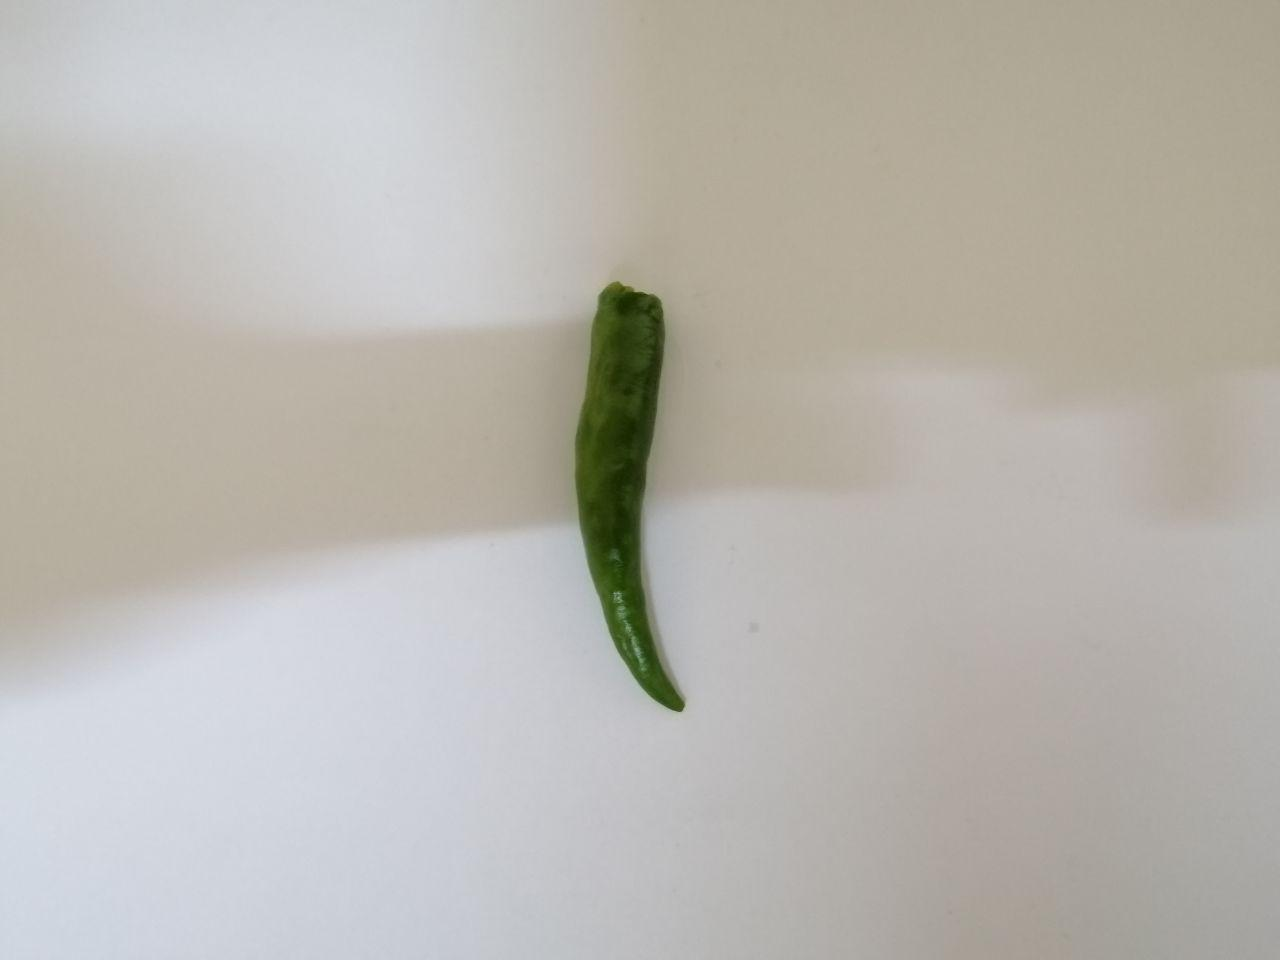lada hijau: (538, 267, 752, 737)
